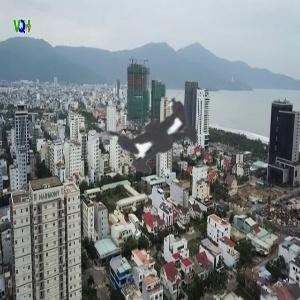drone: (69, 42, 260, 233)
